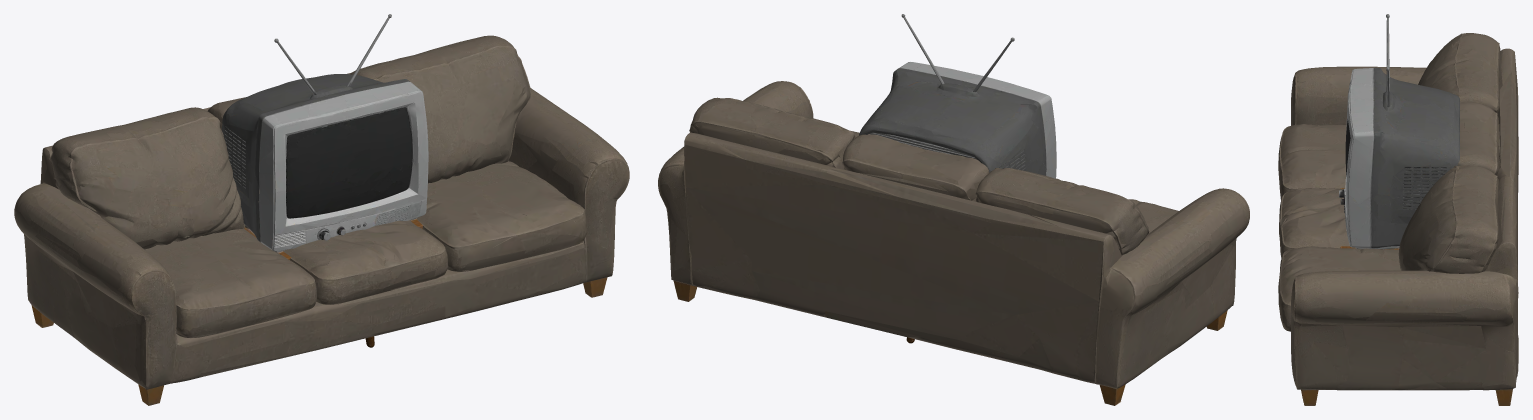
Rendered from room.glb.
The picture shows the model from 3 angles, left to right: view 1: azimuth 30°, elevation 25°; view 2: azimuth 150°, elevation 25°; view 3: azimuth 270°, elevation 25°; orthographic projection. The views are drawn at different scales.
Visible parts, largest first — view 1: sofa, tv; view 2: sofa, tv; view 3: sofa, tv.
Boxes of the visible parts, bbox=[...] form: sofa: bbox=[14, 35, 629, 405]; tv: bbox=[222, 14, 428, 259]; sofa: bbox=[658, 81, 1249, 405]; tv: bbox=[859, 14, 1056, 178]; sofa: bbox=[1278, 33, 1518, 405]; tv: bbox=[1339, 14, 1459, 249].
Size of the model in its own units: 2.1 by 1.15 by 0.9391.
Materials: 5 (5 with a texture image).
